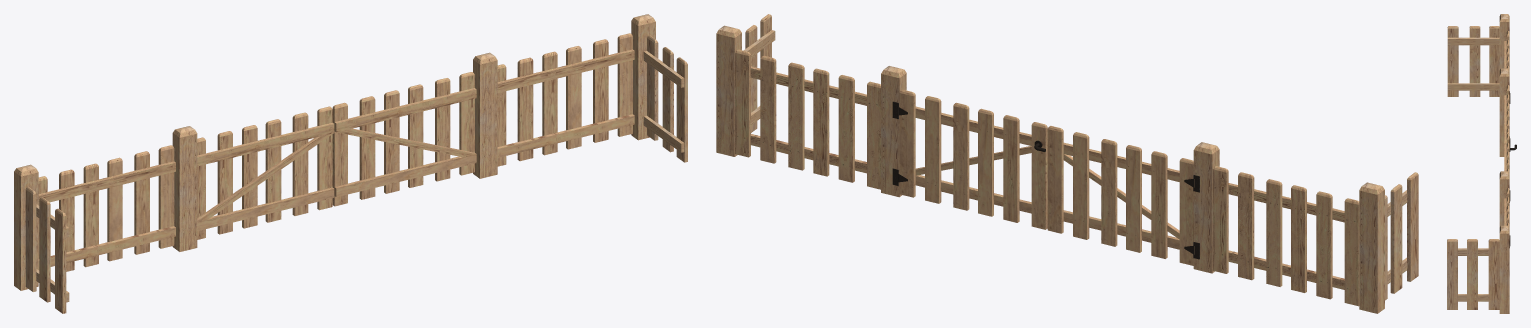
File: vv_cercas.glb
3 renders of one model, left to right at view 1: azimuth 30°, elevation 25°; view 2: azimuth 150°, elevation 25°; view 3: azimuth 270°, elevation 25°, orthographic. The views are drawn at different scales.
Parts seen in each view (by area): view 1: Fence_Door_A, Fence_Door_B, Fence_B, Fence_B.001, Fence_A, Fence_A.001, Fence_Door_Pilar.001, Fence_Door_Pilar, Fence_Door_Pilar.003, Fence_Door_Pilar.002; view 2: Fence_Door_A, Fence_Door_B, Fence_B.001, Fence_B, Fence_Door_Pilar.003, Fence_A.001, Fence_Door_Pilar.002, Fence_Door_Pilar.001, Fence_Door_Pilar, Fence_A; view 3: Fence_A.001, Fence_A, Fence_Door_Pilar.002, Fence_Door_Pilar.001, Fence_Door_Pilar, Fence_Door_Pilar.003, Fence_Door_B, Fence_B, Fence_Door_A, Fence_B.001.
Part boxes in pixels (x1,y1,x2,y2): Fence_Door_A: (332,72,476,206); Fence_Door_B: (197,106,334,239); Fence_B: (497,33,634,166); Fence_B.001: (38,145,175,271); Fence_A: (643,35,687,162); Fence_A.001: (25,187,69,313); Fence_Door_Pilar.001: (172,126,197,251); Fence_Door_Pilar: (473,52,497,178); Fence_Door_Pilar.003: (14,164,38,290); Fence_Door_Pilar.002: (631,14,655,140); Fence_Door_A: (899,89,1047,229); Fence_Door_B: (1047,126,1193,265); Fence_B.001: (1212,166,1359,306); Fence_B: (735,49,880,189); Fence_Door_Pilar.003: (1359,182,1384,313); Fence_A.001: (1385,172,1418,300); Fence_Door_Pilar.002: (716,25,741,156); Fence_Door_Pilar.001: (1193,142,1219,273); Fence_Door_Pilar: (881,66,906,197); Fence_A: (743,14,775,132); Fence_A.001: (1447,26,1499,96); Fence_A: (1447,239,1499,309); Fence_Door_Pilar.002: (1499,225,1509,313); Fence_Door_Pilar.001: (1499,68,1509,156); Fence_Door_Pilar: (1499,171,1509,226); Fence_Door_Pilar.003: (1499,14,1509,69); Fence_Door_B: (1504,85,1509,144); Fence_B: (1504,188,1509,227); Fence_Door_A: (1504,134,1509,172); Fence_B.001: (1504,31,1509,69).
Size of the model in its own units: 1091 by 196 by 148.
Materials: 7 (7 with a texture image).
